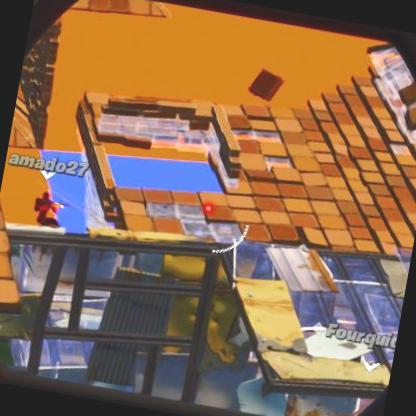person: (32, 187, 70, 252)
